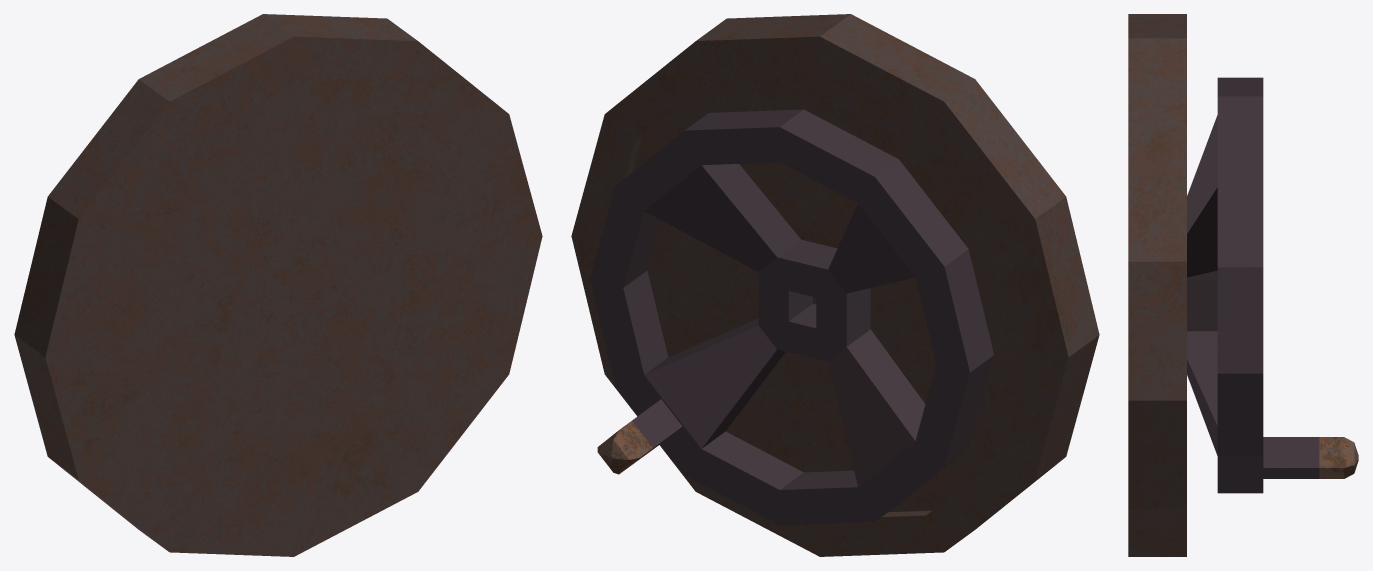
File: Crank.fbx
The picture shows the model from 3 angles, left to right: view 1: azimuth 30°, elevation 25°; view 2: azimuth 150°, elevation 25°; view 3: azimuth 270°, elevation 25°; orthographic projection. The views are drawn at different scales.
Parts seen in each view (by area): view 1: Baked CrankBase; view 2: Baked CrankBase, Baked Crank, Baked CrankHandle; view 3: Baked CrankBase, Baked Crank, Baked CrankHandle.
Boxes of the visible parts, x1,y1,x2,y2 form: Baked CrankBase: (14,14,542,556); Baked CrankBase: (571,14,1099,556); Baked Crank: (589,109,993,525); Baked CrankHandle: (597,399,682,474); Baked CrankBase: (1128,14,1186,556); Baked Crank: (1187,77,1263,493); Baked CrankHandle: (1263,437,1358,478).
Size of the model in its own units: 50.83 by 50.83 by 21.47.
3 materials, 3 textured.
